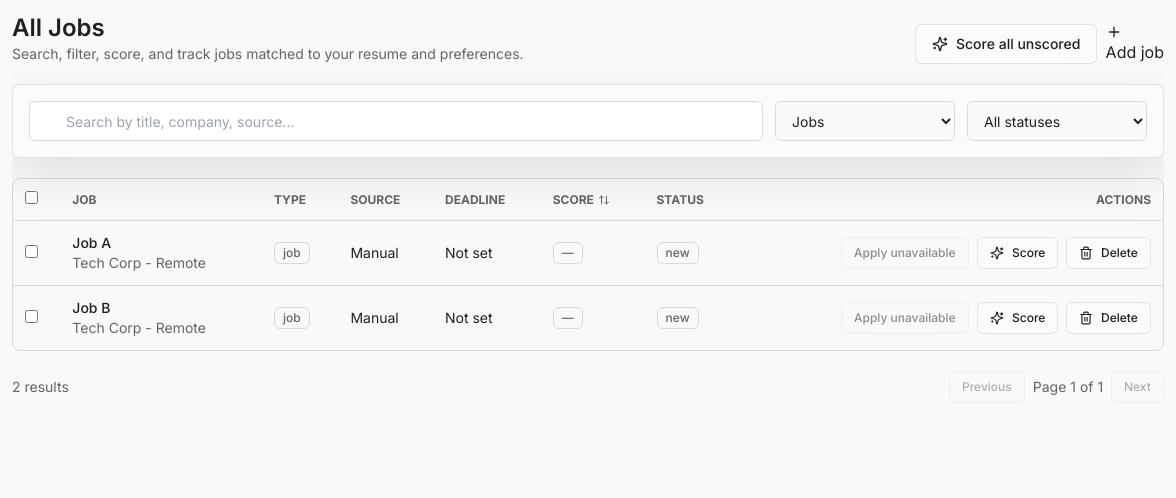
OpportunityListView › shows batch score panel when selected jobs are scored
Click the checkbox named "Select page" at (32, 198), box x1=25 y1=191 x2=38 y2=204
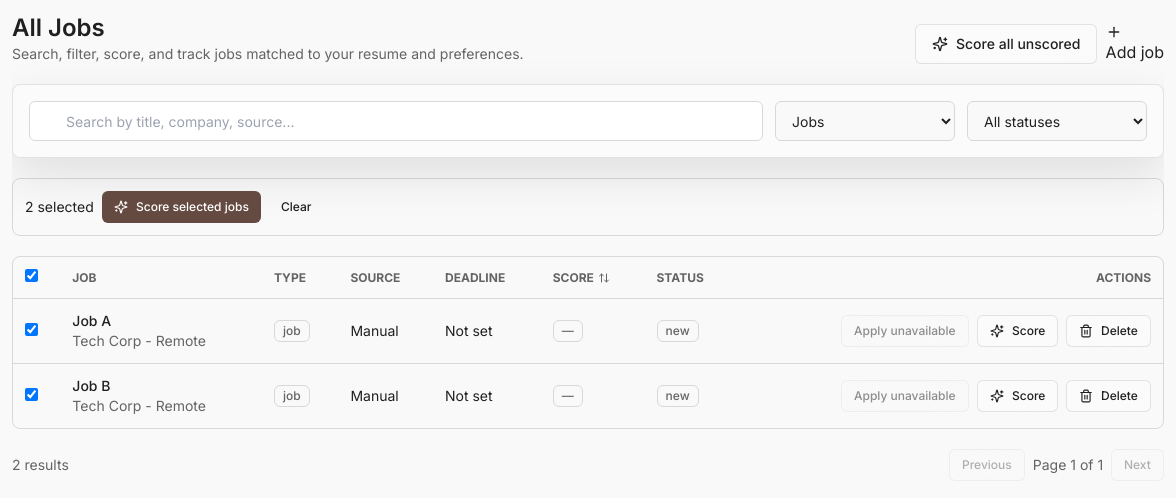
Click the checkbox named "Select Job A" at (32, 330), box x1=25 y1=323 x2=38 y2=336
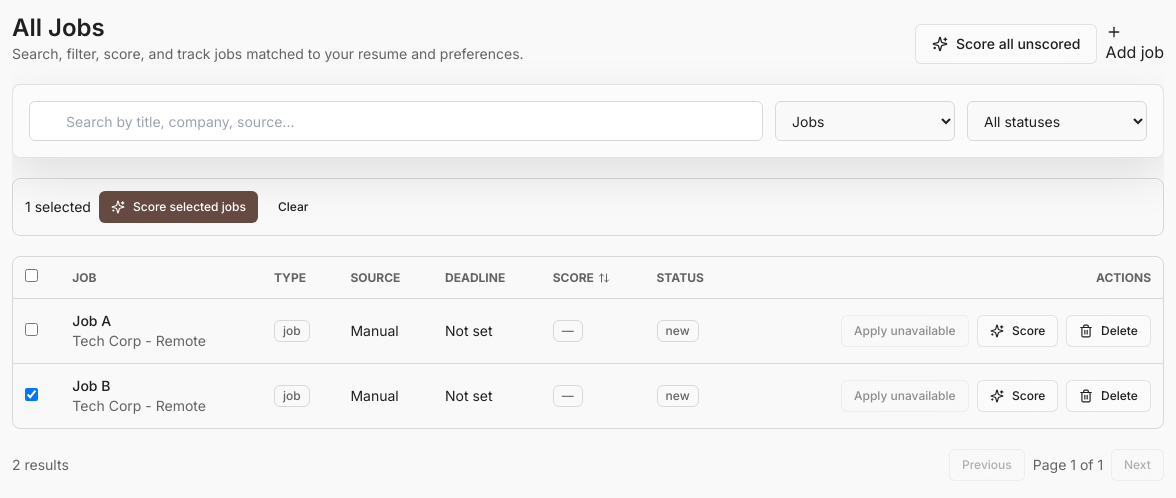
Click the button "Score selected jobs" at (178, 207), box x1=99 y1=191 x2=258 y2=223
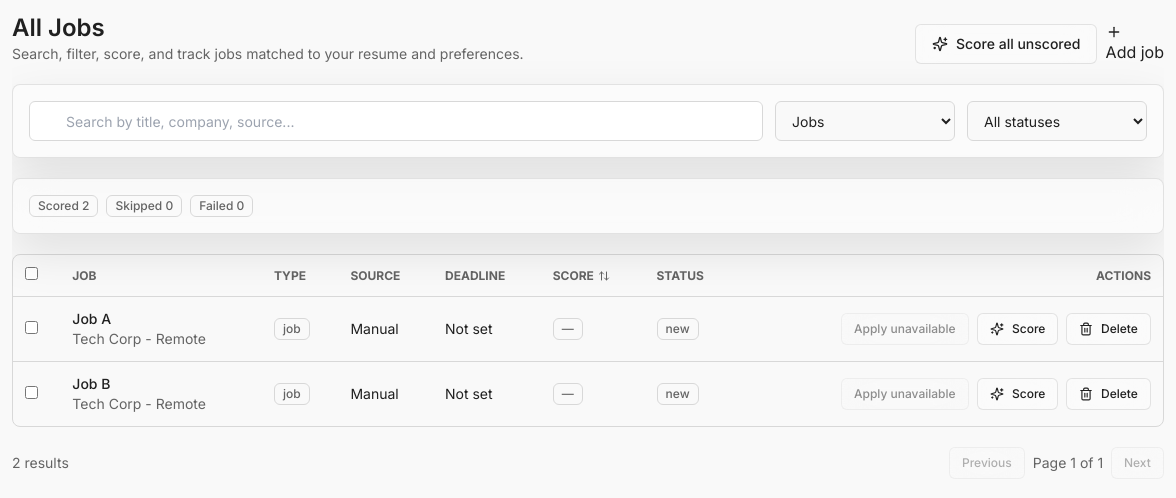
Expected: the text "Scored 2" is shown, x1=29 y1=195 x2=98 y2=217
